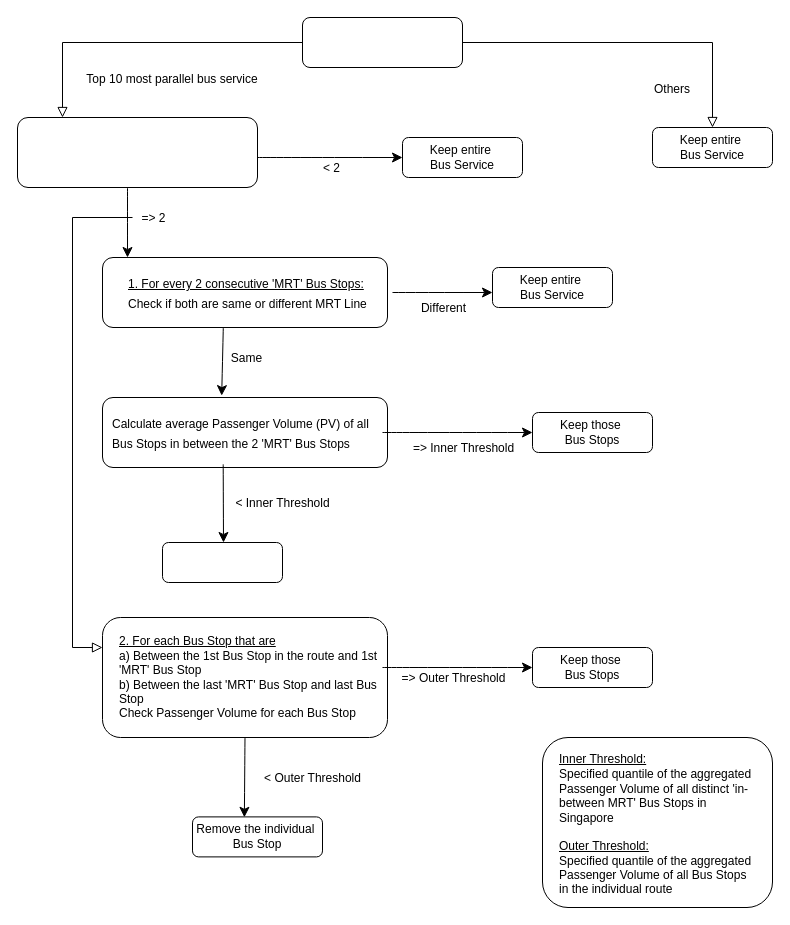
Image size: 790x925. Some labels were removed from this diagram. The box of each missing label's shape, as (x1, y1, x2, y2) in pixels:
For each Bus Service: Check number of 'MRT' Bus Stops: (16, 116, 258, 188)
Output Parallel Scores for each Bus Service: (302, 16, 462, 68)
Remove those Bus Stops: (162, 542, 282, 582)
